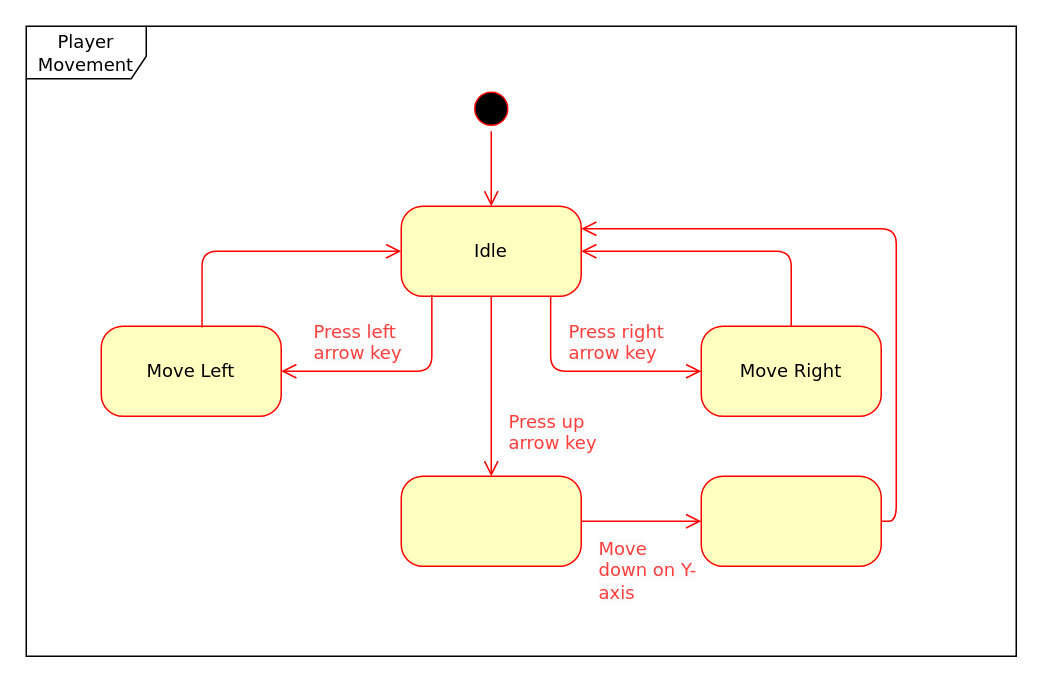
Some shapes in this 1043 by 683 pixel diagram are drawn without their labels. The centre of each missing label's shape, as x and y in pixels:
Fall: [790,520]
Jump: [490,520]
